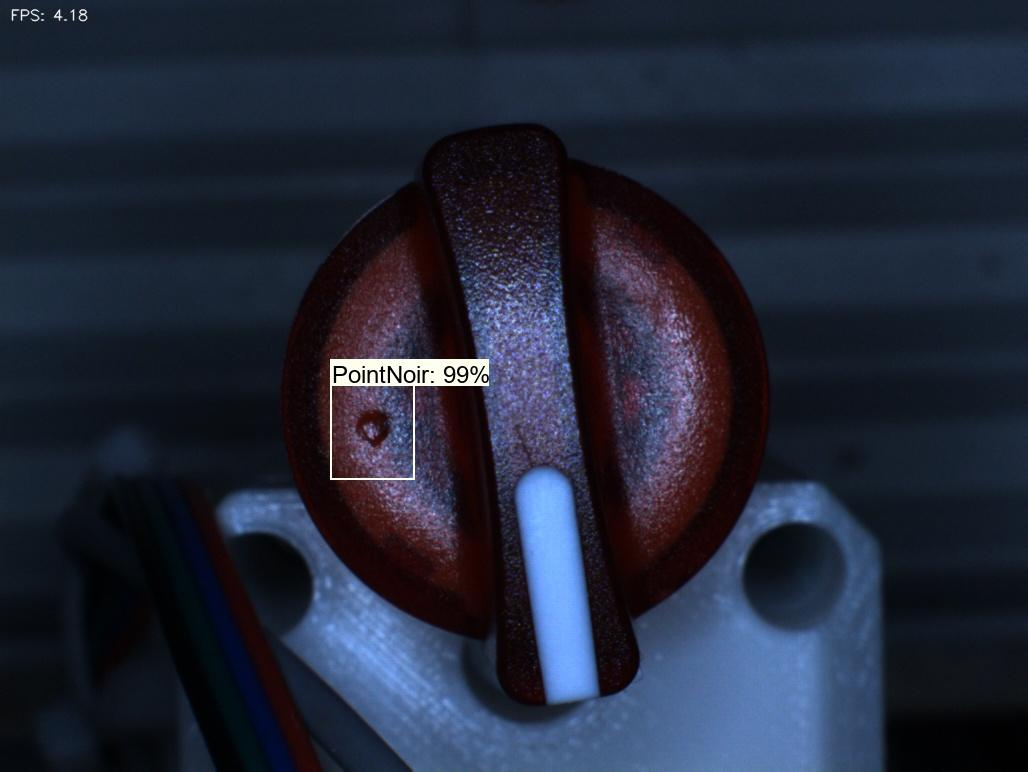Choc: (331, 396, 418, 478)
